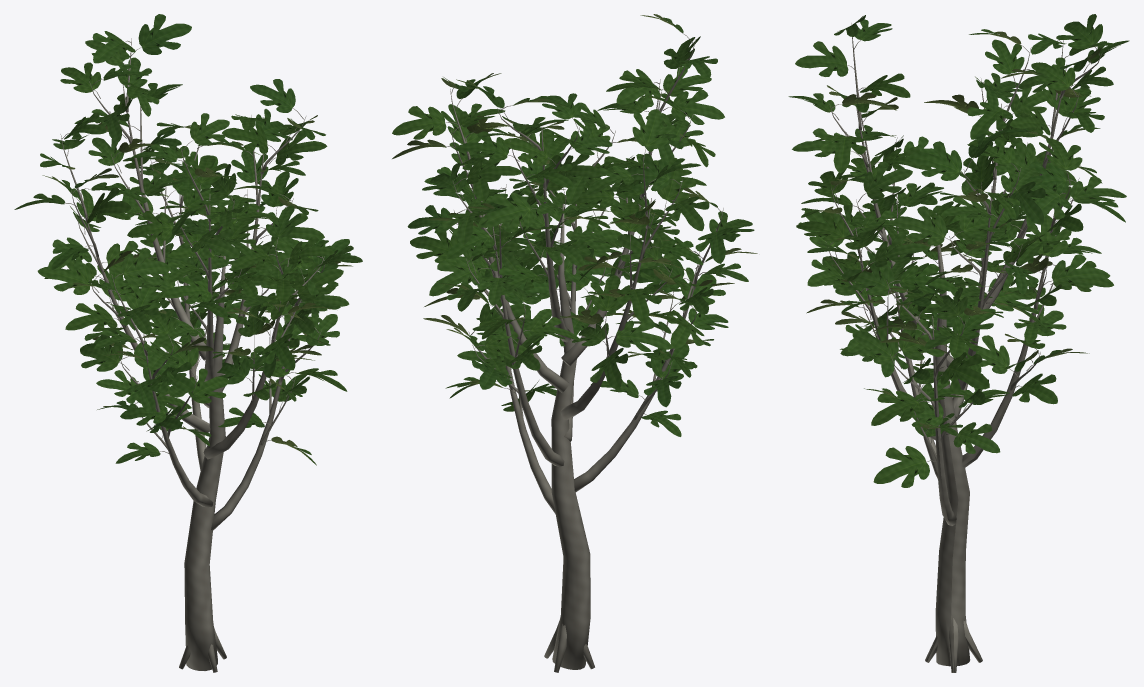
File: fig-detailed.glb
3 renders of one model, left to right at view 1: azimuth 30°, elevation 25°; view 2: azimuth 150°, elevation 25°; view 3: azimuth 270°, elevation 25°, orthographic. The views are drawn at different scales.
Visible parts, largest first — view 1: Fig five lobed curved leaves, Fig trunk branches petioles; view 2: Fig five lobed curved leaves, Fig trunk branches petioles; view 3: Fig five lobed curved leaves, Fig trunk branches petioles.
Boxes of the visible parts, left/top/right/bottom form: Fig five lobed curved leaves: left=14, top=14, right=362, bottom=465; Fig trunk branches petioles: left=60, top=38, right=324, bottom=672; Fig five lobed curved leaves: left=392, top=14, right=757, bottom=436; Fig trunk branches petioles: left=445, top=32, right=723, bottom=672; Fig five lobed curved leaves: left=788, top=14, right=1129, bottom=487; Fig trunk branches petioles: left=825, top=23, right=1101, bottom=672.
Bounding box in the file's own units: 1.98 × 3.66 × 1.8.
2 materials, 2 textured.
